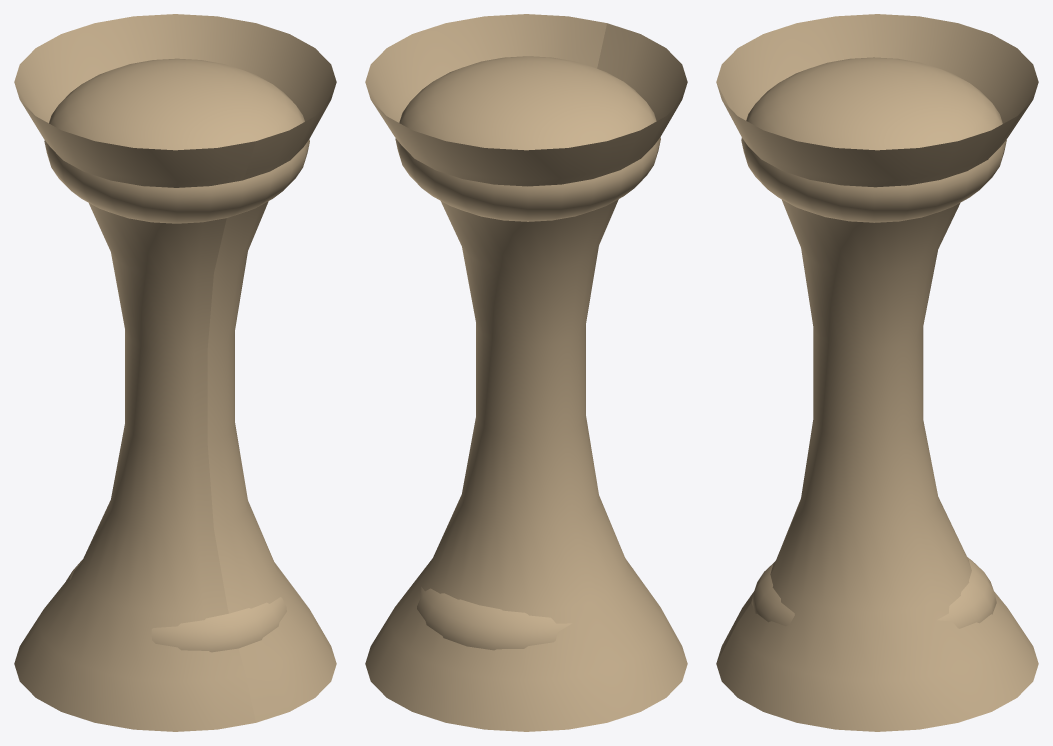
The model's file is left_toe_3_proximal.glb.
3 views of the same model, side by side, from view 1: azimuth 30°, elevation 25°; view 2: azimuth 150°, elevation 25°; view 3: azimuth 270°, elevation 25° (orthographic).
Visible parts, largest first — view 1: left_toe_3_proximal:diaphysis, left_toe_3_proximal:proximal-envelope, left_toe_3_proximal:distal-envelope; view 2: left_toe_3_proximal:diaphysis, left_toe_3_proximal:proximal-envelope, left_toe_3_proximal:distal-envelope; view 3: left_toe_3_proximal:diaphysis, left_toe_3_proximal:proximal-envelope, left_toe_3_proximal:distal-envelope.
Part boxes in pixels (box(x1,y1,x2,y2)): left_toe_3_proximal:diaphysis: box(14, 14, 336, 731); left_toe_3_proximal:proximal-envelope: box(44, 58, 309, 223); left_toe_3_proximal:distal-envelope: box(66, 559, 286, 652); left_toe_3_proximal:diaphysis: box(365, 14, 687, 731); left_toe_3_proximal:proximal-envelope: box(395, 56, 660, 221); left_toe_3_proximal:distal-envelope: box(417, 587, 571, 650); left_toe_3_proximal:diaphysis: box(716, 14, 1038, 731); left_toe_3_proximal:proximal-envelope: box(741, 57, 1006, 222); left_toe_3_proximal:distal-envelope: box(751, 557, 996, 628).
Bounding box in the file's own units: 0.0864 × 0.1728 × 0.0864.
